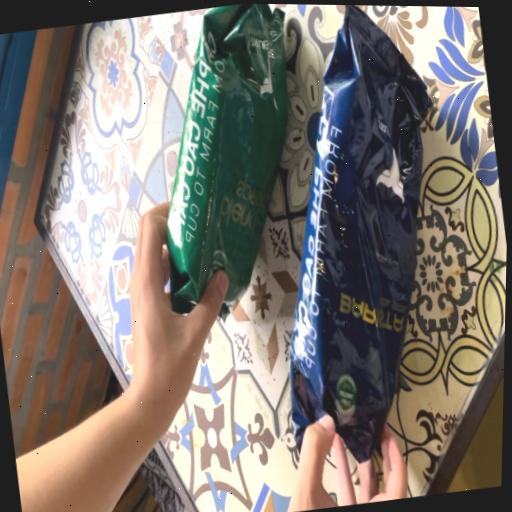cafe_hat: (290, 5, 432, 461)
cafe_xay: (167, 4, 288, 313)
